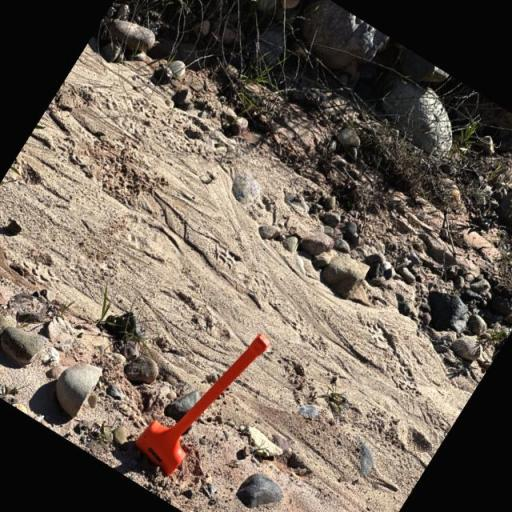mallet: (130, 308, 272, 485)
